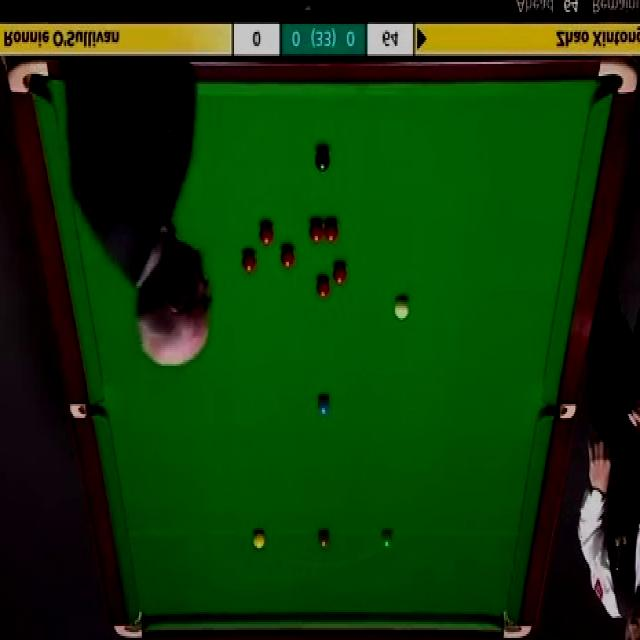black-ball: (315, 144, 331, 174)
blue-ball: (317, 394, 332, 414)
brown-ball: (317, 530, 330, 550)
green-ball: (381, 530, 394, 549)
red-ball: (240, 248, 258, 275), (280, 245, 297, 270), (316, 274, 333, 298), (333, 262, 349, 287), (308, 219, 324, 242), (259, 224, 275, 247), (324, 220, 338, 242)
white-ball: (395, 296, 409, 320)
yellow-ball: (253, 531, 266, 552)
